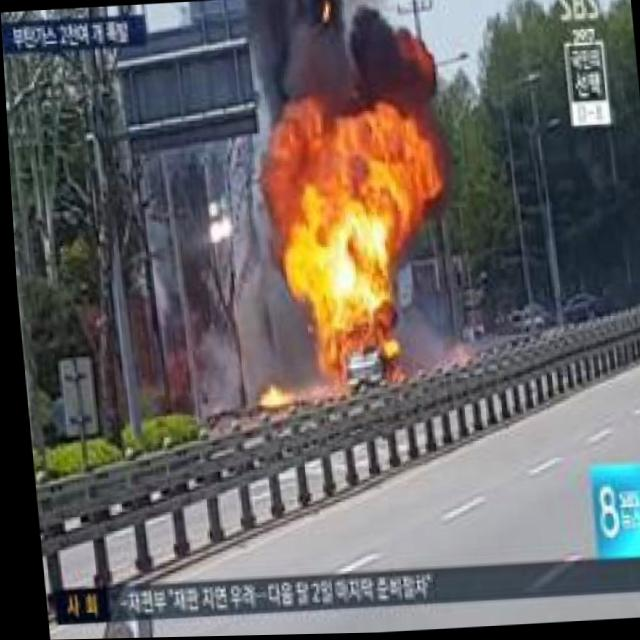Fire: (271, 125, 400, 387), (246, 382, 281, 416)
